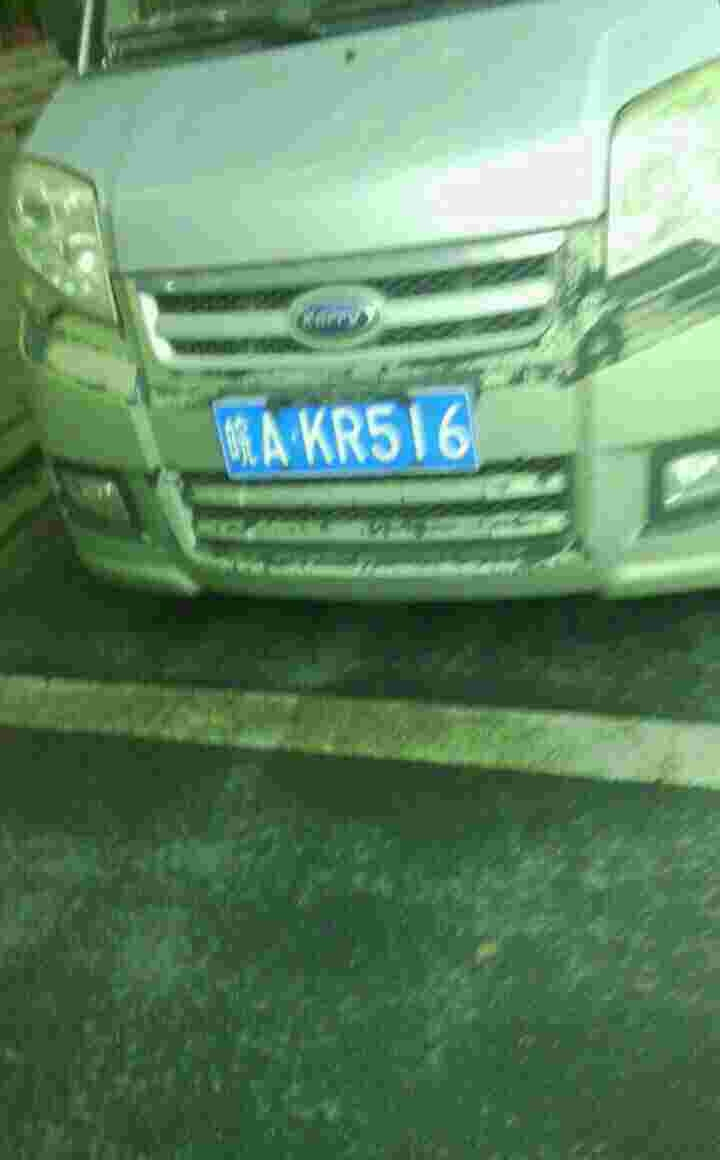plate: (210, 384, 488, 485)
